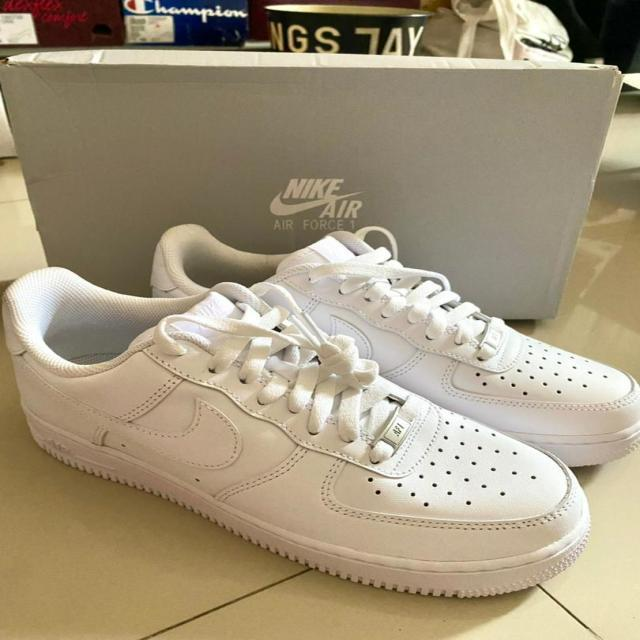nike original air force: (0, 266, 593, 602), (153, 224, 640, 467)
